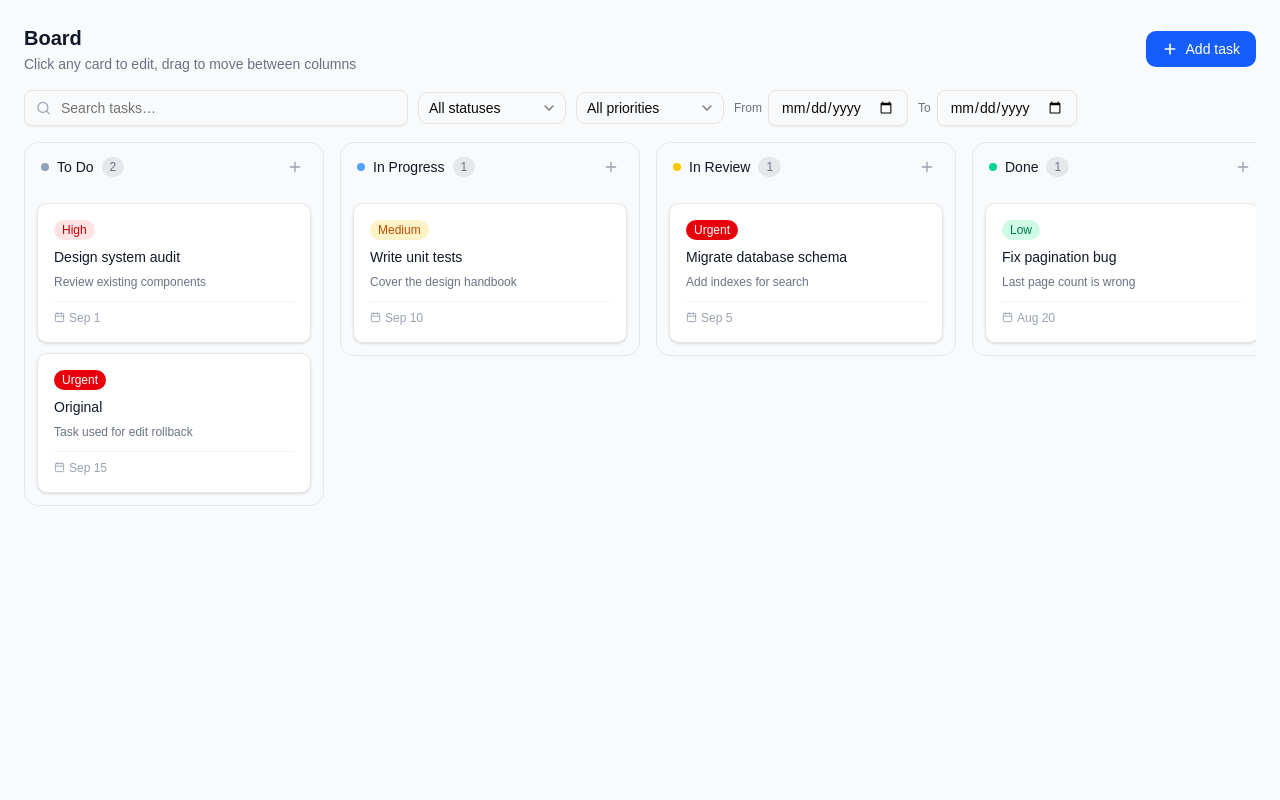
Test: task workflows › restores the previous task when an optimistic edit fails
Step 1. Click the button "Original" → (174, 407), box left=54, top=398, right=294, bottom=417
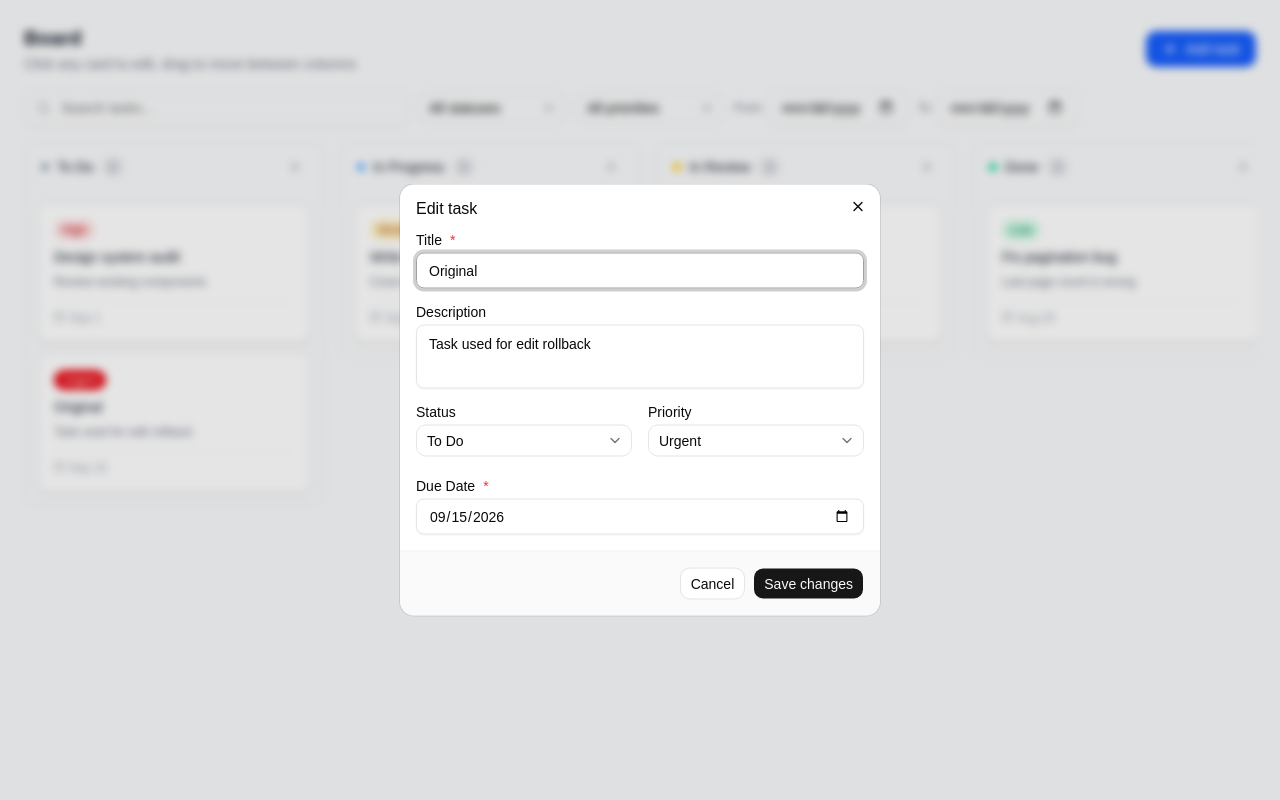
expect the heading "Edit task" is shown: met, box left=416, top=200, right=477, bottom=216
Step 2. Replace the text in the field labelled "Title *" with "Updated" → (640, 270), box left=416, top=252, right=864, bottom=288
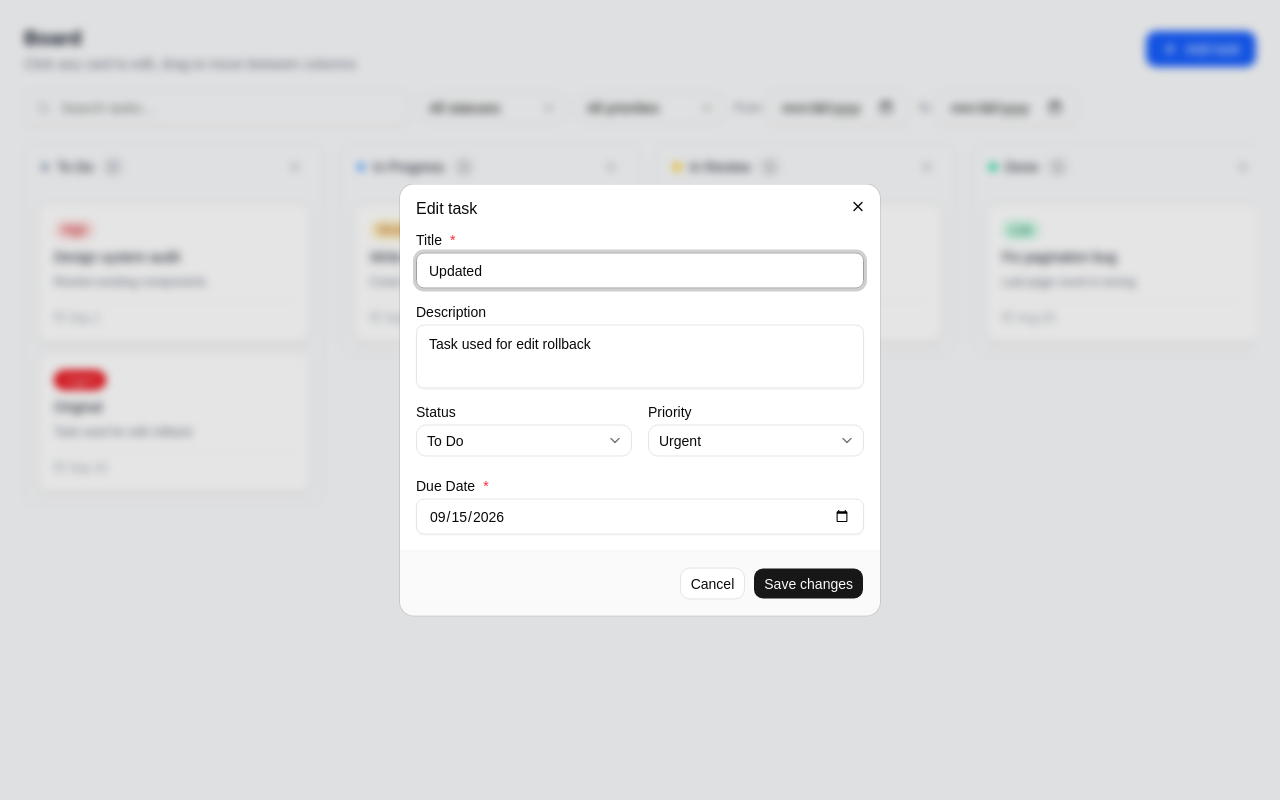
Step 3. Click the button "Save changes" → (809, 584), box left=753, top=568, right=864, bottom=600
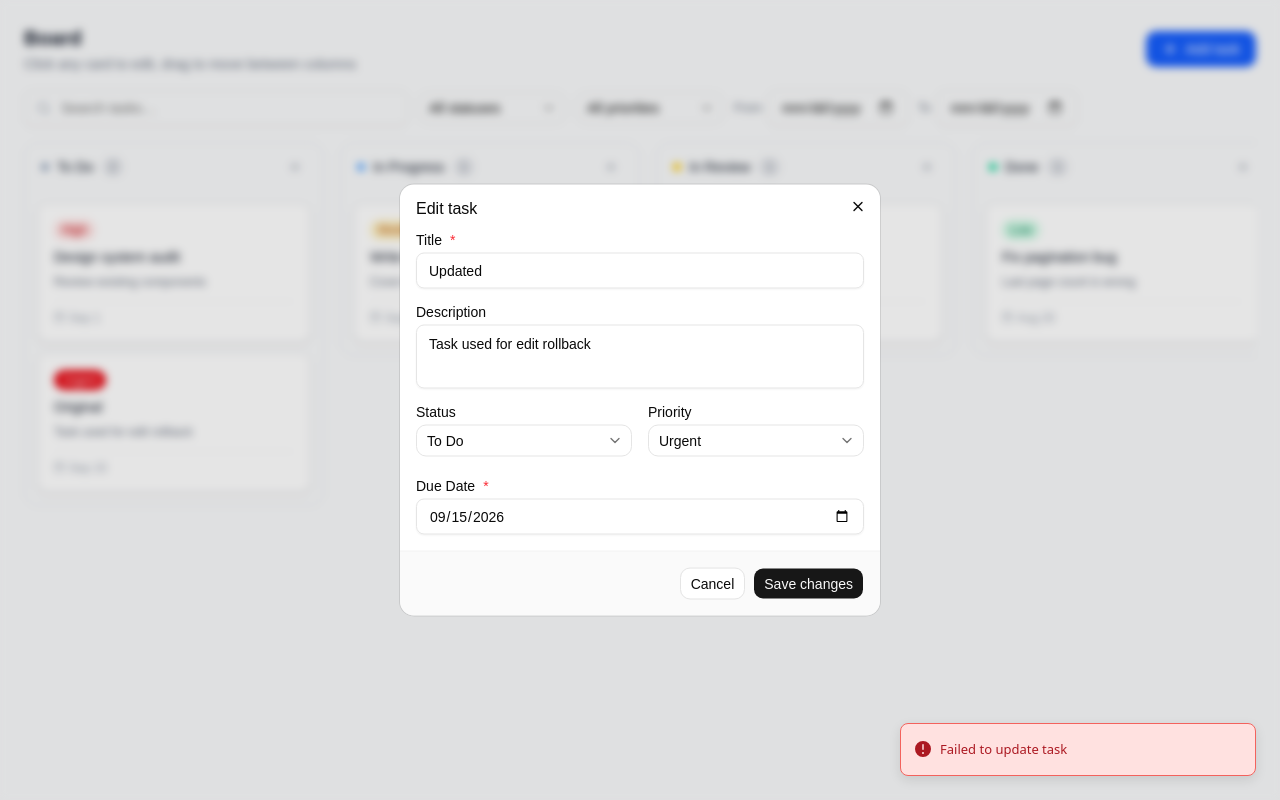
expect the button "Original" is shown: met, box left=54, top=398, right=294, bottom=417
expect the text "Failed to update task" is shown: met, box left=940, top=740, right=1067, bottom=759
